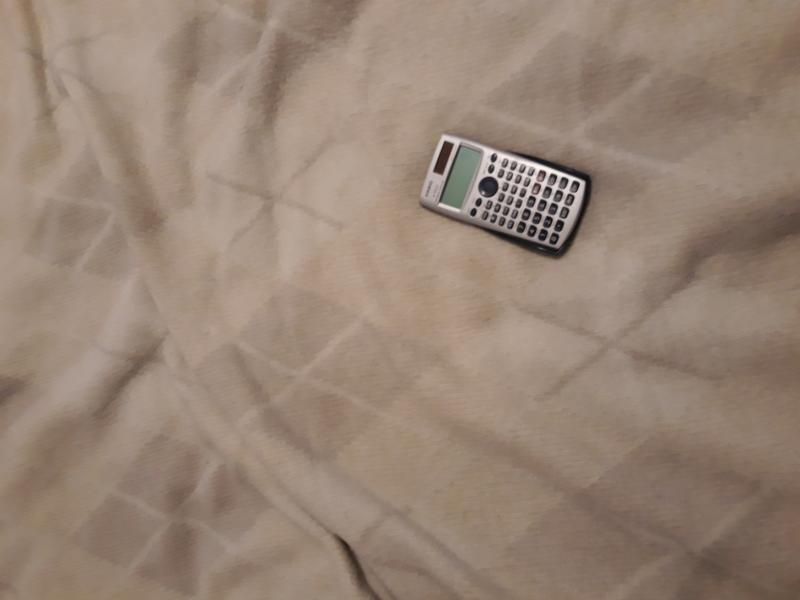CASIO_fx_991ES: (416, 117, 608, 258)
